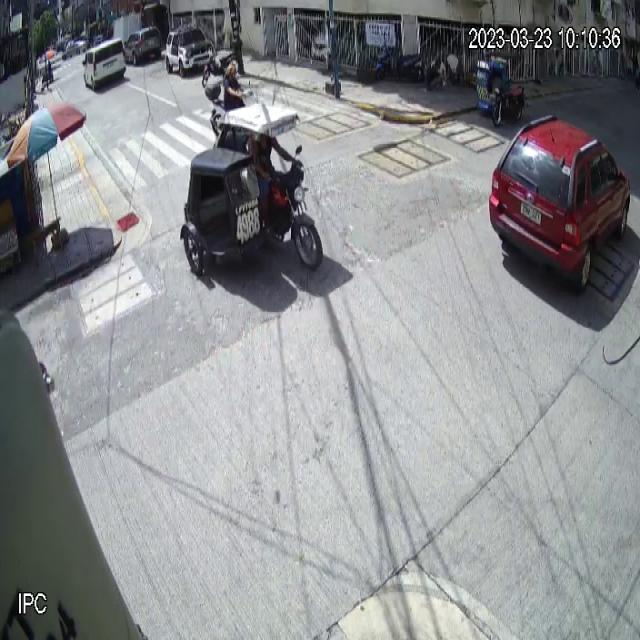Car: (488, 112, 632, 296)
Tricycle: (180, 100, 323, 280), (476, 50, 527, 128)
